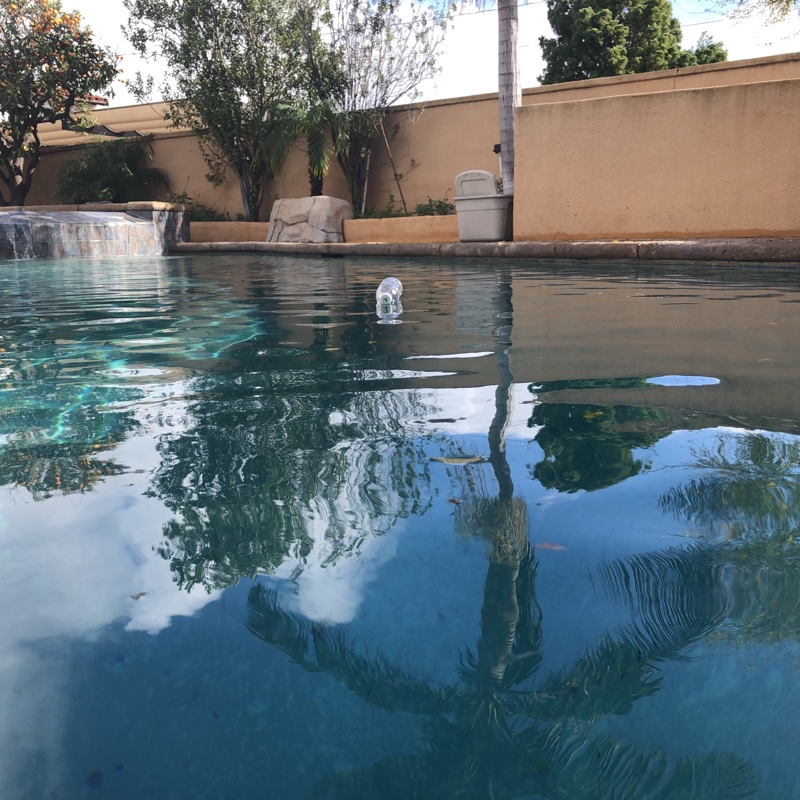Plastic Bottle: (374, 274, 406, 308)
